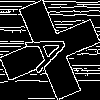A: (25, 25, 80, 74)
